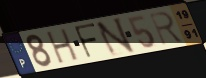5: (125, 13, 158, 50)
8: (25, 32, 54, 68)
F: (73, 22, 101, 60)
H: (45, 27, 81, 66)
N: (94, 16, 137, 59)
R: (147, 10, 186, 48)
